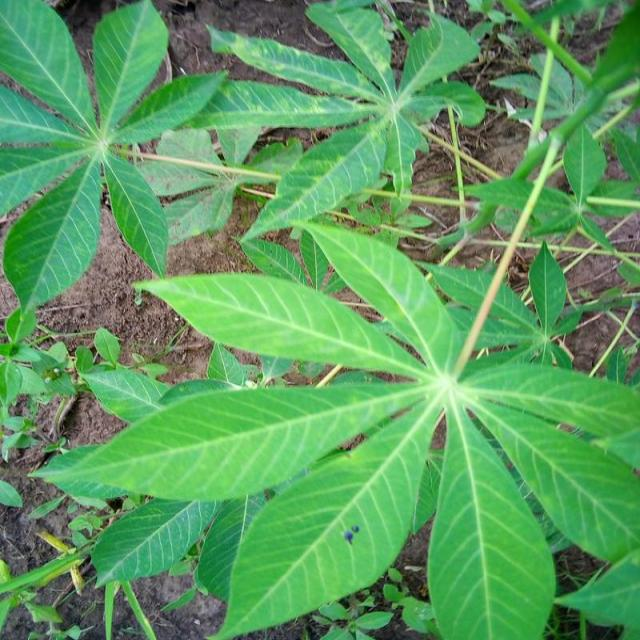cassava leaf: (31, 219, 639, 638), (0, 0, 227, 318), (204, 397, 439, 639), (28, 378, 419, 504)
